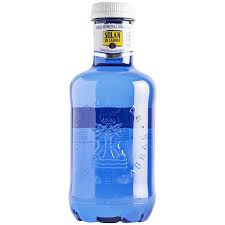solan de cabras: (56, 1, 176, 225)
